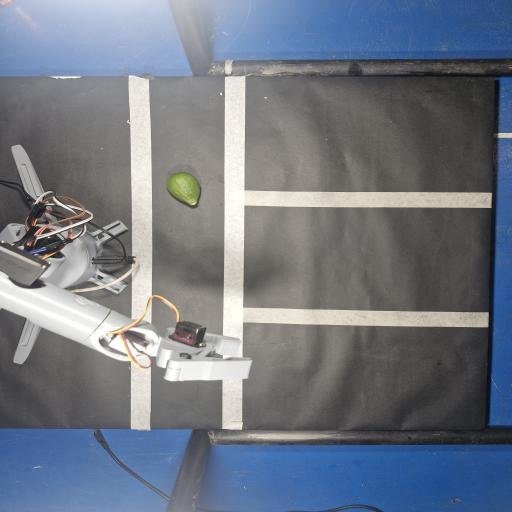higo: (166, 172, 200, 205)
